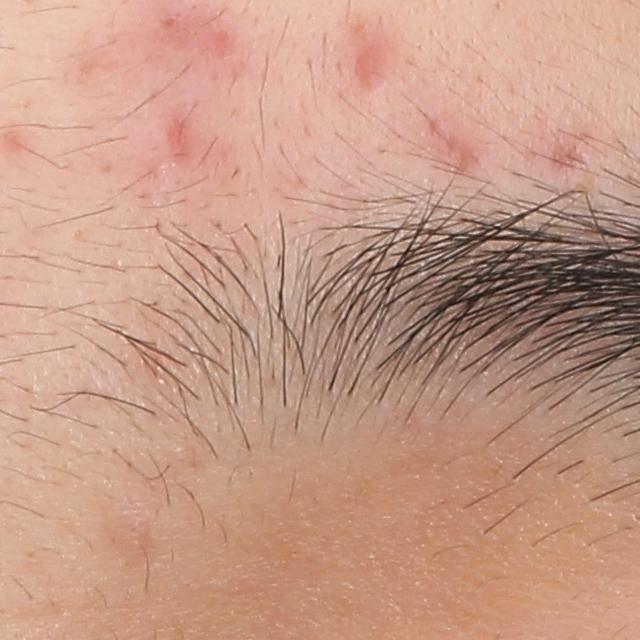atrophic_scar: (355, 38, 393, 94)
